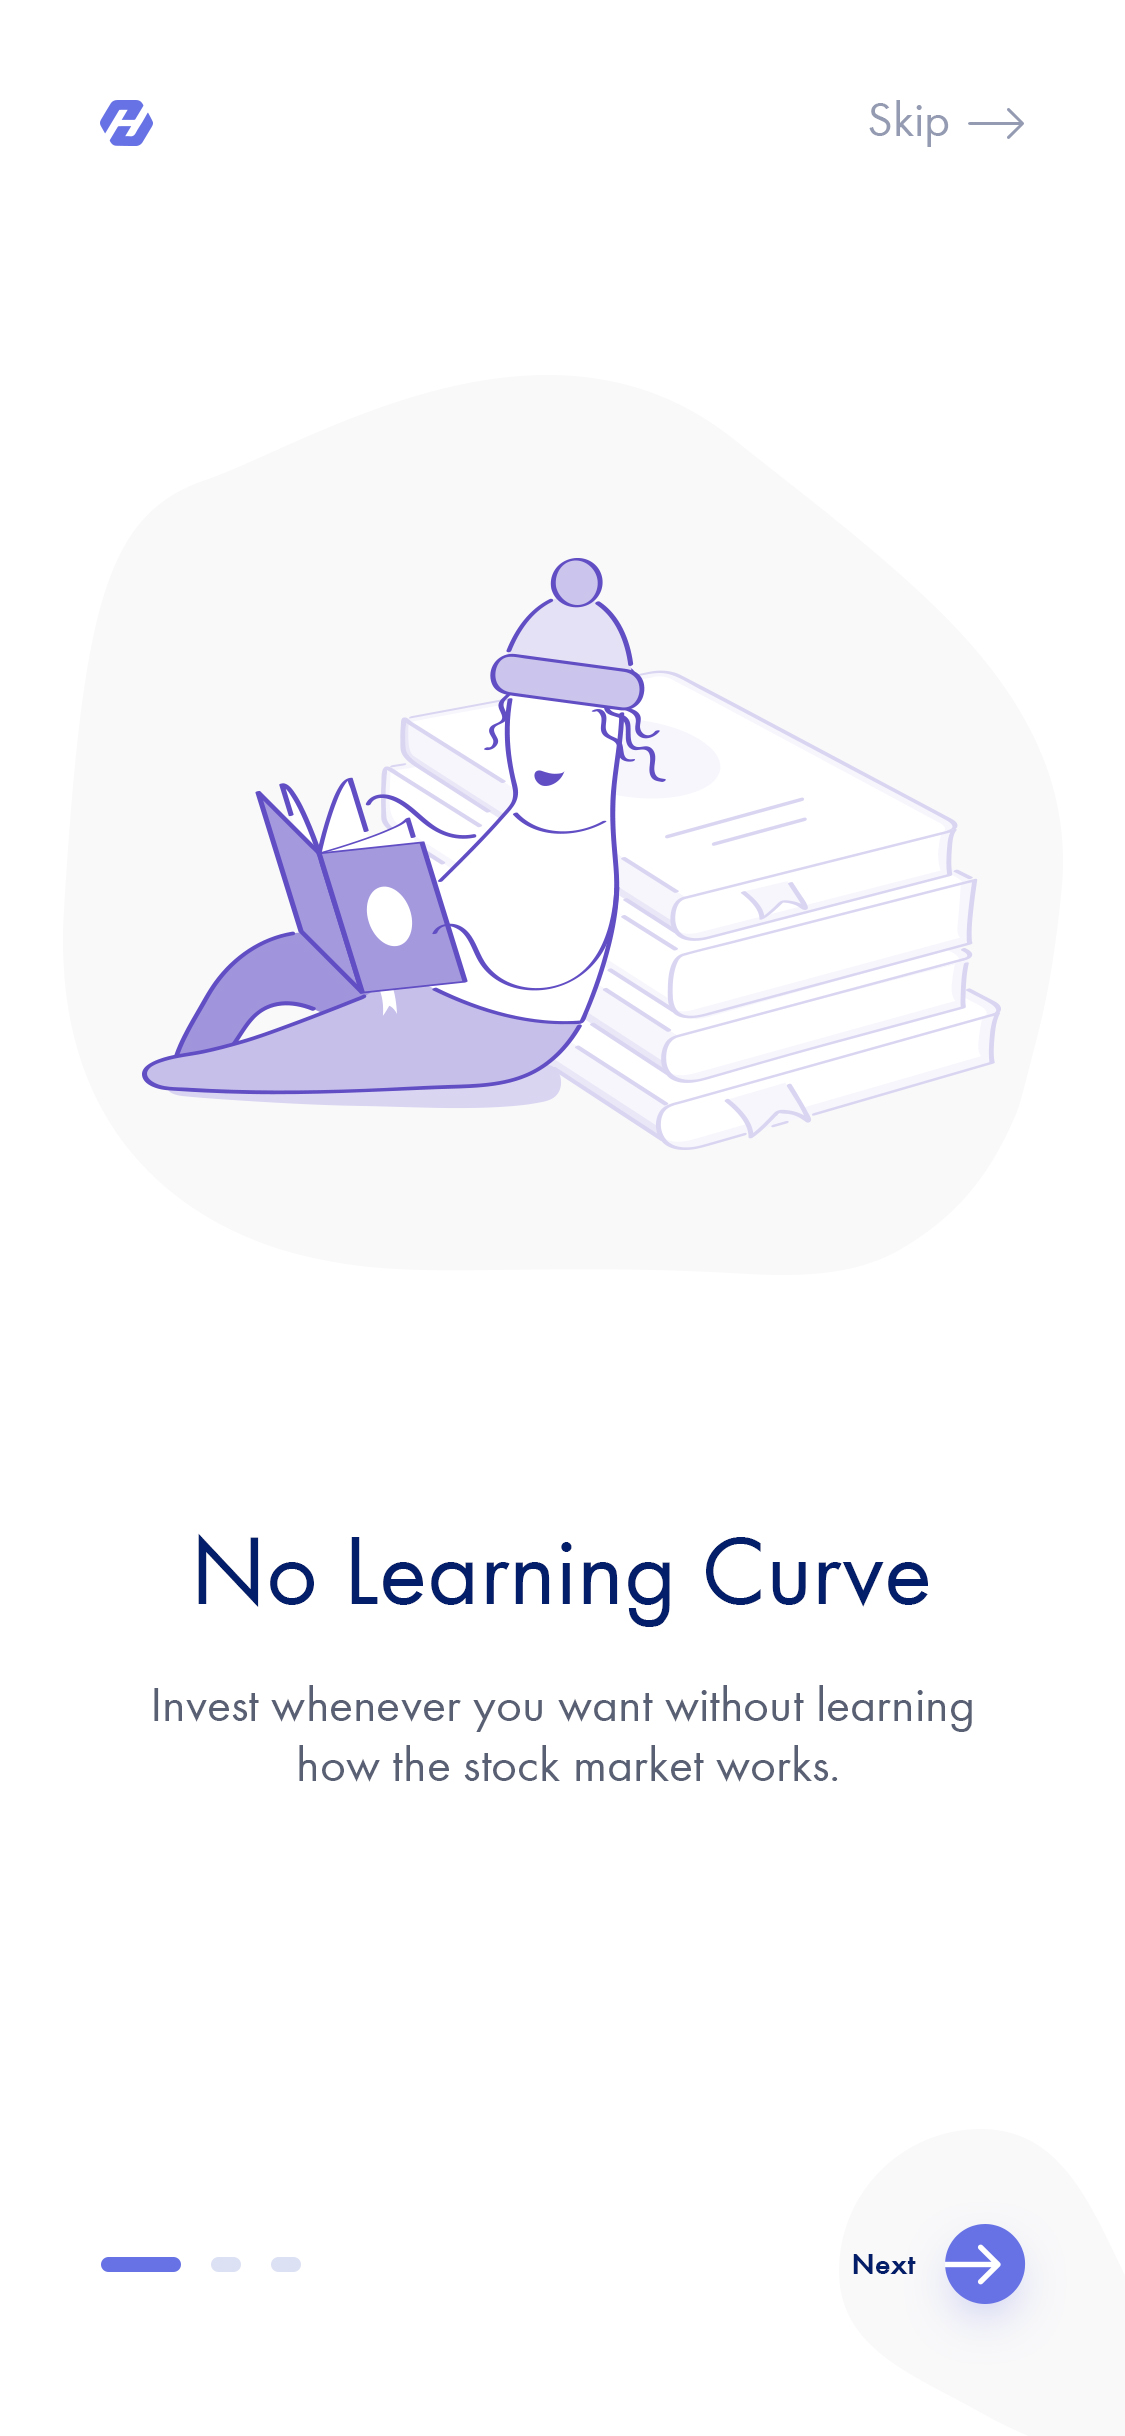Icon: (945, 2223, 1026, 2305), (967, 107, 1026, 141)
Image: (64, 376, 1064, 1272)
PageIndicator: (101, 2256, 303, 2273)
Text: (154, 1684, 974, 1783), (197, 1536, 931, 1630), (869, 99, 949, 151), (852, 2253, 917, 2276)
